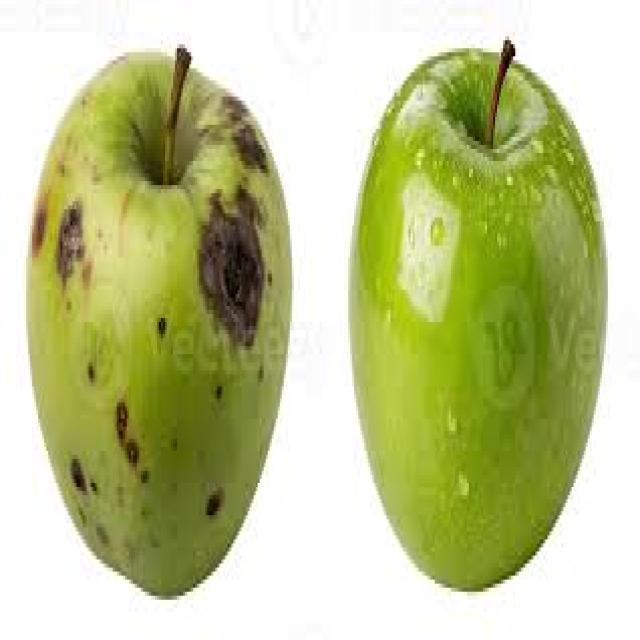Green Juicy Apple: (349, 43, 606, 595)
Rotten Apple: (25, 51, 294, 595)
